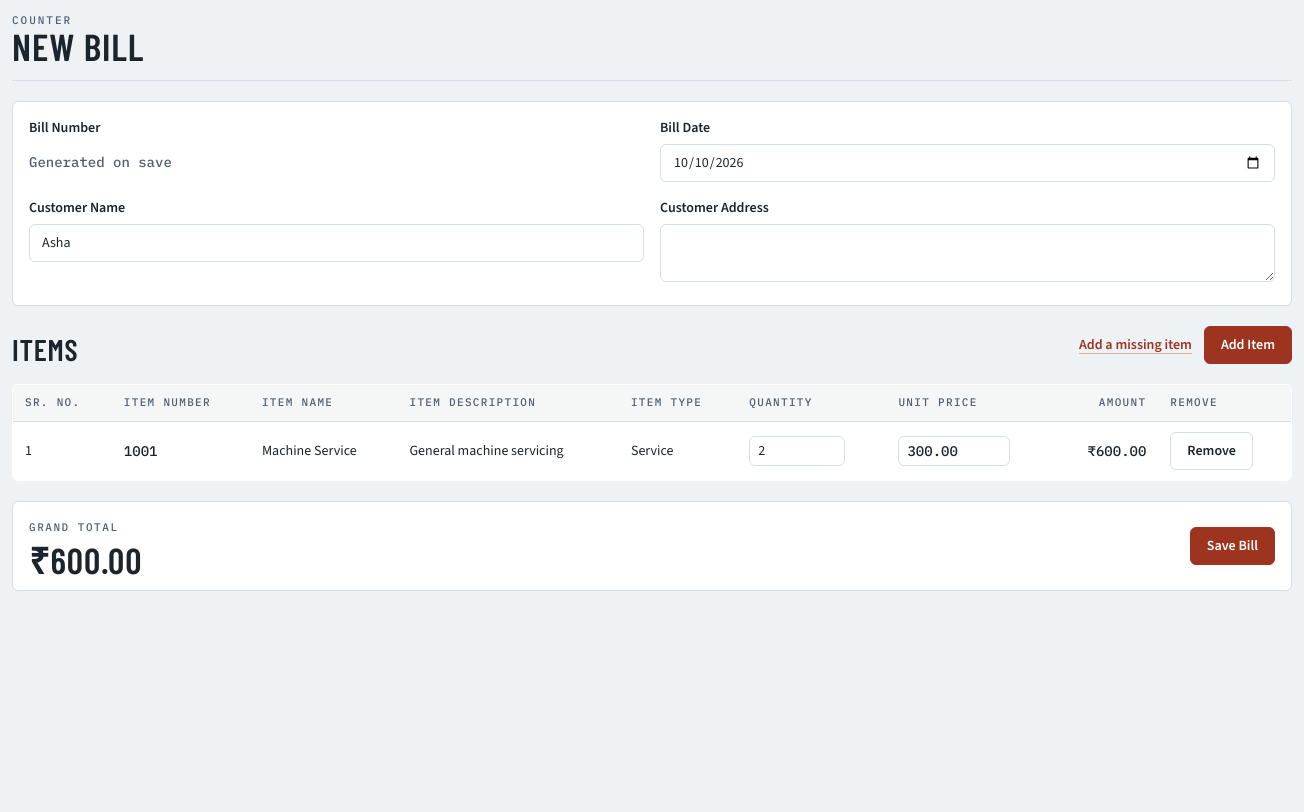
Test: commits quantity and unit price edits
Clear the number field named "Quantity for Machine Service" at (797, 451), box [749,436,845,466]
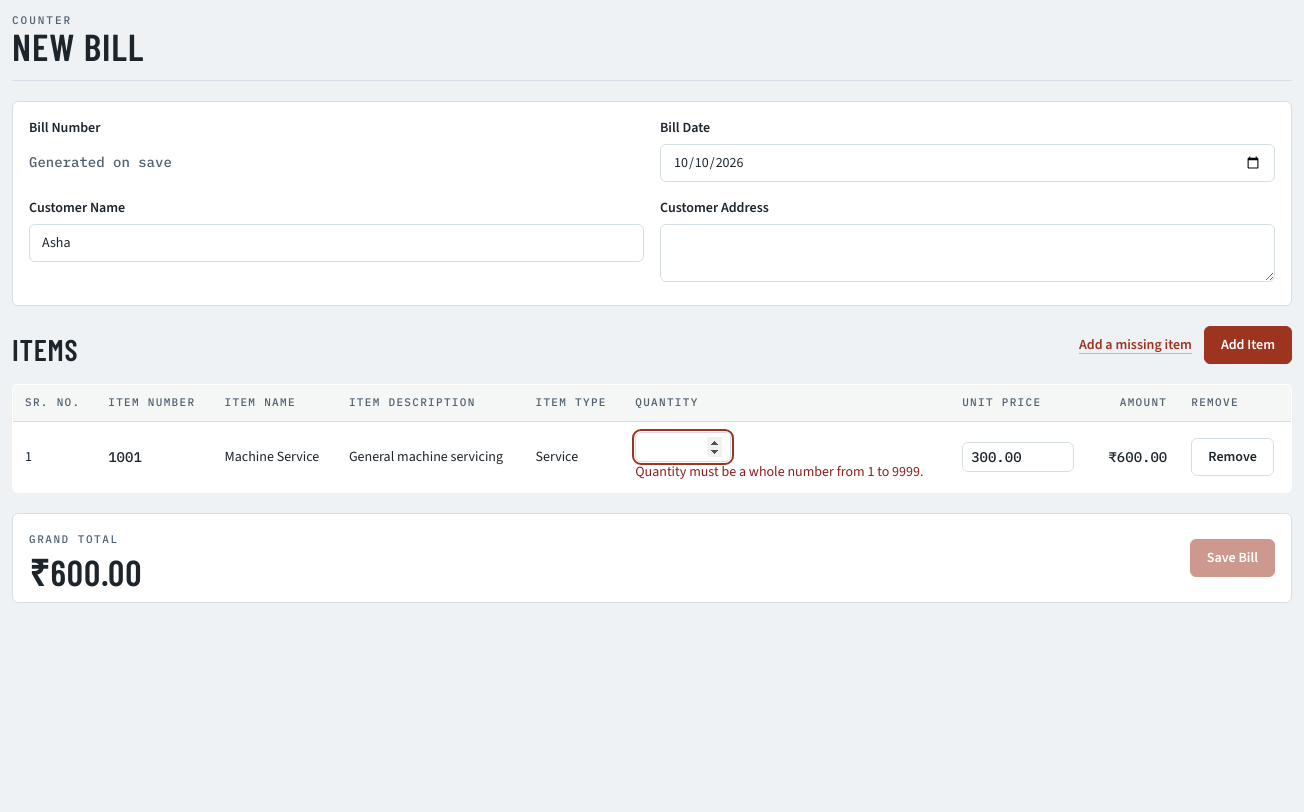
Type "3" into the number field named "Quantity for Machine Service".
click(683, 447); type("3")  # box [635,432,731,462]
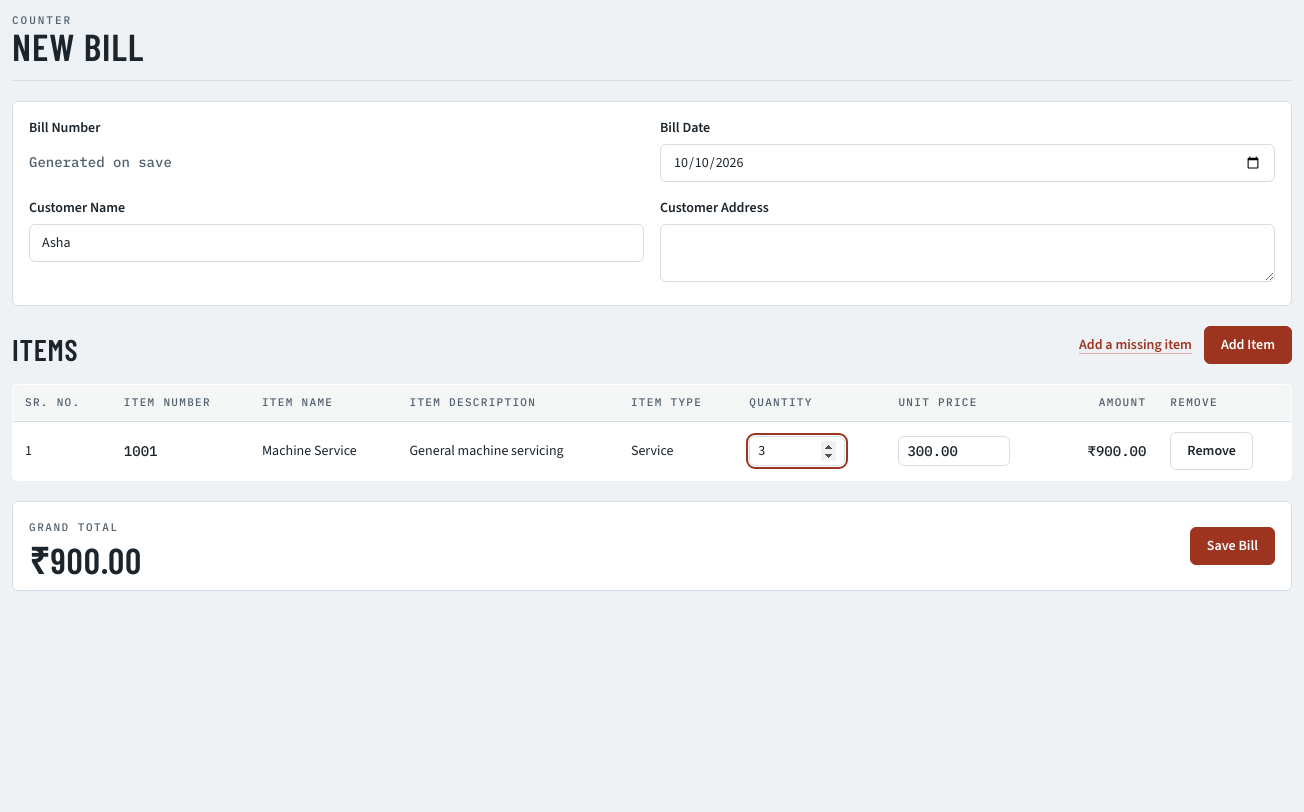
Replace the text in the field named "Unit price for Machine Service" with "250.50" at (954, 451), box [898,436,1010,466]
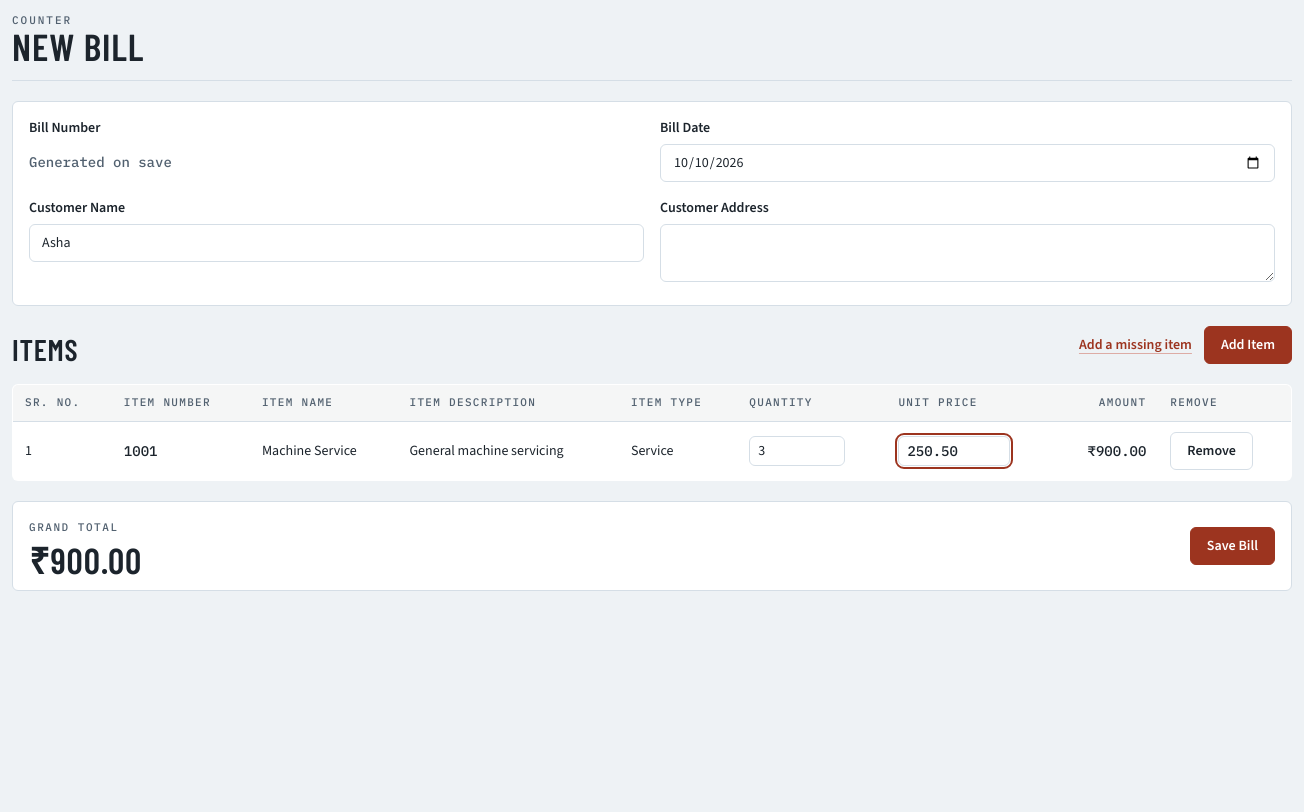
Press Tab
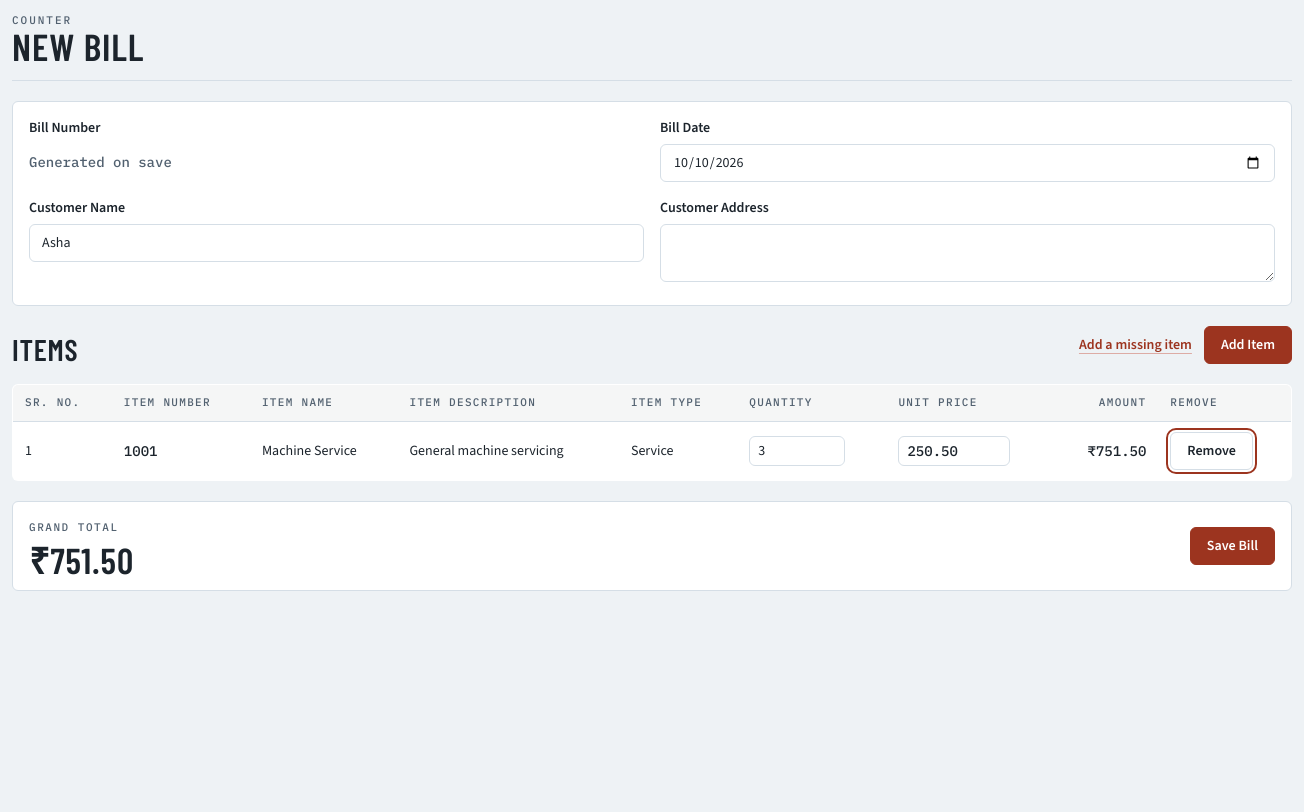
Now the text "₹751.50" is shown, box [1055,421,1158,480]
